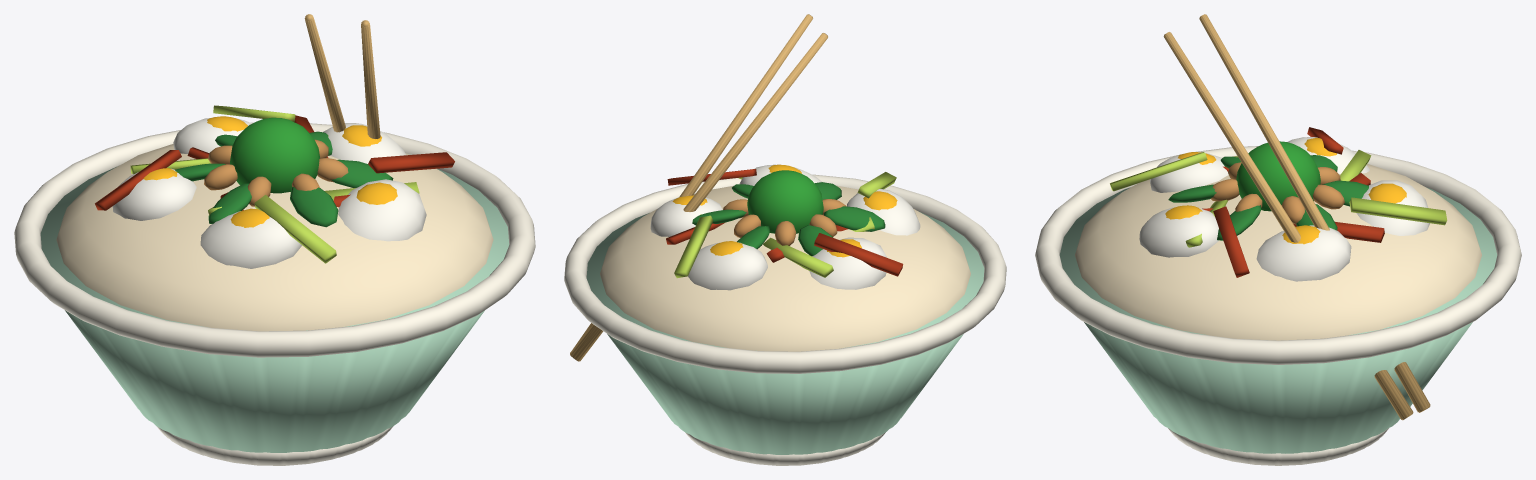
The model's file is vietnamese-snack.glb.
The picture shows the model from 3 angles, left to right: view 1: azimuth 30°, elevation 25°; view 2: azimuth 150°, elevation 25°; view 3: azimuth 270°, elevation 25°; orthographic projection. The views are drawn at different scales.
Parts seen in each view (by area): view 1: RicePaperBase, BowlBody, BowlRim, Kumquat, QuailWhite_3, QuailWhite_4, BowlFoot, QuailWhite_2, Strip_8, QuailWhite_0, RauRam_4, Chopstick_1 (+12 smaller); view 2: RicePaperBase, BowlBody, BowlRim, Kumquat, Chopstick_1, QuailWhite_1, Chopstick_2, QuailWhite_2, BowlFoot, QuailWhite_0, QuailWhite_3, Strip_5 (+9 smaller); view 3: RicePaperBase, BowlBody, BowlRim, QuailWhite_0, Chopstick_2, Chopstick_1, Kumquat, QuailWhite_4, BowlFoot, QuailWhite_3, QuailWhite_1, Strip_2 (+11 smaller).
Part boxes in pixels (x1,y1,x2,y2): RicePaperBase: (56,144,493,331); BowlBody: (40,166,509,452); BowlRim: (14,122,535,357); Kumquat: (230,117,319,193); QuailWhite_3: (200,211,301,268); QuailWhite_4: (338,179,426,241); BowlFoot: (157,426,393,465); QuailWhite_2: (112,168,196,220); Strip_8: (254,195,336,263); QuailWhite_0: (323,123,405,163); RauRam_4: (290,187,338,227); Chopstick_1: (304,14,345,132); RicePaperBase: (600,185,970,351); BowlBody: (586,211,984,454); BowlRim: (564,174,1006,373); Kumquat: (747,170,823,233); Chopstick_1: (570,33,827,361); QuailWhite_1: (688,242,767,290); Chopstick_2: (573,14,812,348); QuailWhite_2: (809,237,887,289); BowlFoot: (685,432,885,465); QuailWhite_0: (650,197,722,236); QuailWhite_3: (847,189,920,235); Strip_5: (814,233,903,276); RicePaperBase: (1075,155,1481,340); BowlBody: (1059,187,1497,453); BowlRim: (1035,146,1521,364); QuailWhite_0: (1256,225,1351,281); Chopstick_2: (1163,32,1413,420); Chopstick_1: (1199,14,1430,412); Kumquat: (1236,141,1320,211); QuailWhite_4: (1139,207,1218,257); BowlFoot: (1168,428,1388,465); QuailWhite_3: (1150,153,1228,192); QuailWhite_1: (1356,180,1429,235); Strip_2: (1349,197,1447,225).
Size of the model in its own units: 1.65 by 1.51 by 1.65.
